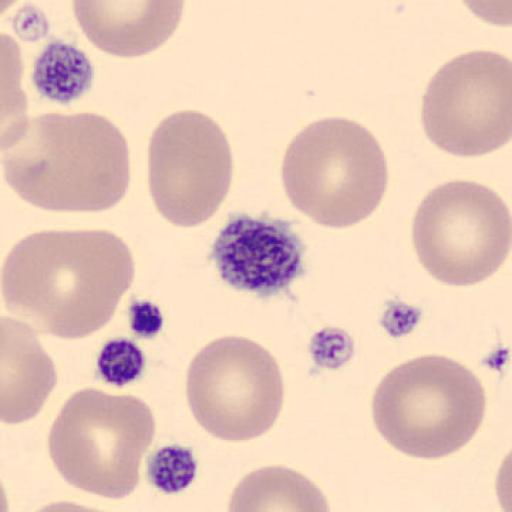Platelet: (206, 210, 310, 298), (29, 38, 98, 106), (143, 440, 203, 498), (92, 334, 150, 390), (303, 322, 358, 373)
RBC: (0, 226, 138, 342), (2, 108, 133, 215), (368, 351, 488, 461), (46, 383, 156, 501), (278, 114, 389, 230), (183, 334, 286, 445), (410, 178, 512, 289), (145, 108, 235, 231), (419, 47, 512, 159), (71, 0, 186, 59), (2, 314, 58, 426), (225, 462, 333, 512), (0, 30, 30, 152), (456, 0, 512, 28), (17, 498, 127, 512), (492, 438, 512, 512), (493, 451, 512, 511)
